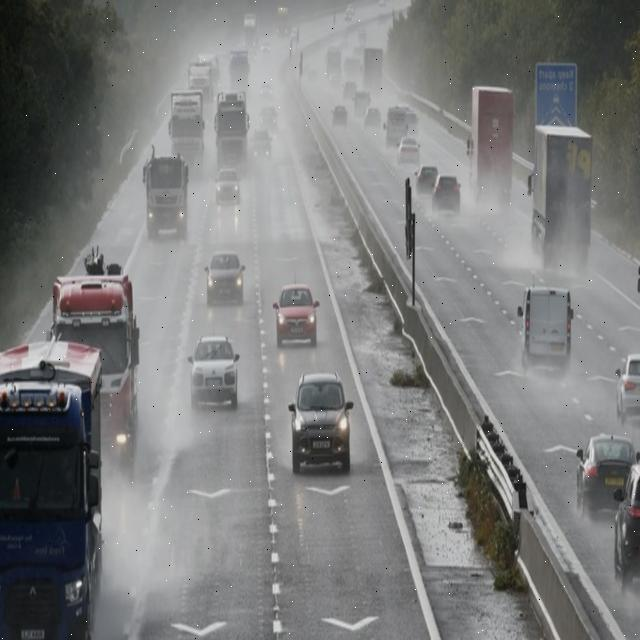Car: (288, 371, 354, 473), (517, 283, 574, 374), (576, 432, 636, 518), (187, 333, 239, 409), (614, 452, 640, 583), (272, 282, 321, 347), (204, 250, 247, 306), (615, 352, 640, 422), (189, 56, 217, 101), (431, 174, 461, 215), (385, 106, 410, 148), (215, 167, 241, 204), (414, 164, 439, 196), (397, 137, 421, 167), (250, 126, 272, 158), (342, 56, 362, 88), (258, 102, 278, 131), (354, 89, 371, 119), (243, 12, 257, 42), (364, 107, 382, 130), (332, 104, 348, 128), (402, 106, 419, 128), (209, 54, 220, 88), (343, 80, 357, 102), (258, 82, 274, 101), (343, 34, 355, 59), (352, 44, 364, 68), (327, 72, 341, 92), (243, 32, 256, 52), (289, 32, 299, 57), (306, 65, 318, 82), (250, 40, 260, 60), (260, 41, 272, 56), (357, 28, 367, 45), (345, 4, 354, 22)
Truck: (1, 343, 107, 638), (51, 265, 136, 442), (530, 123, 592, 273), (469, 86, 515, 211), (144, 144, 189, 240), (214, 89, 250, 169), (169, 89, 205, 169), (362, 46, 384, 98), (228, 49, 250, 91), (276, 4, 290, 36)
